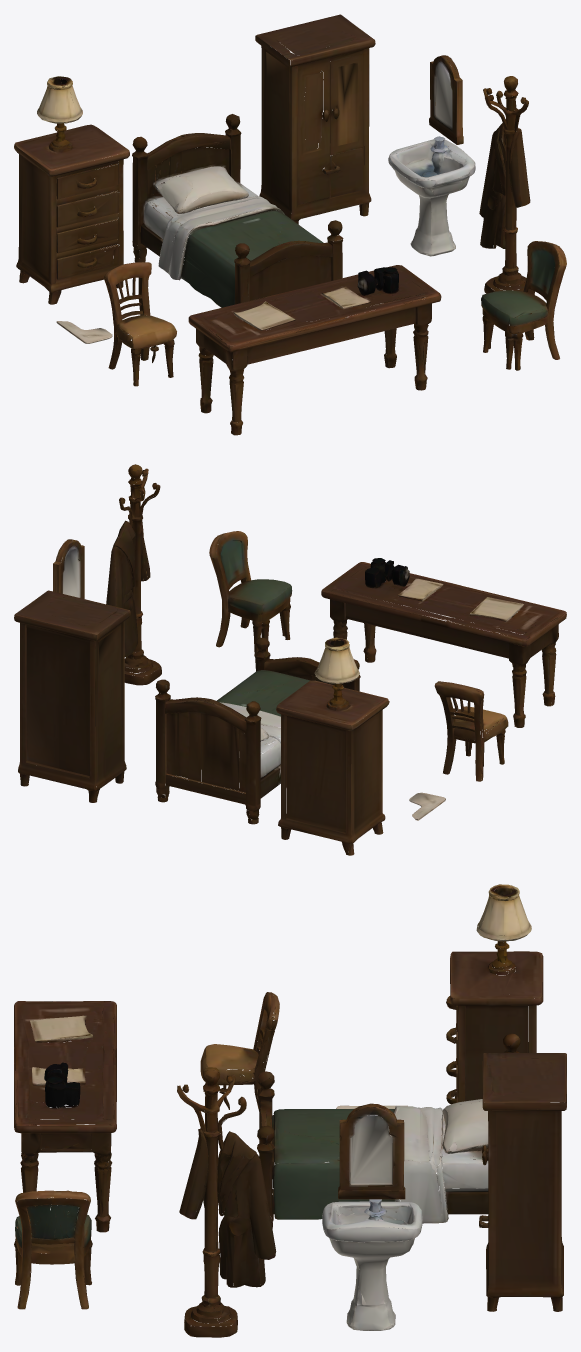
Rendered from env-butch-room-furniture.glb.
3 renders of one model, top to bottom at view 1: azimuth 30°, elevation 25°; view 2: azimuth 150°, elevation 25°; view 3: azimuth 270°, elevation 25°, orthographic. The views are drawn at different scales.
Parts seen in each view (by area): view 1: env-butch-room-furniture; view 2: env-butch-room-furniture; view 3: env-butch-room-furniture.
Part boxes in pixels (box(x1,y1,x2,y2)): env-butch-room-furniture: box(14, 14, 566, 435); env-butch-room-furniture: box(14, 464, 566, 855); env-butch-room-furniture: box(14, 884, 566, 1337).
Size of the model in its own units: 5.42 by 2.8 by 5.4.
1 material, 1 textured.
